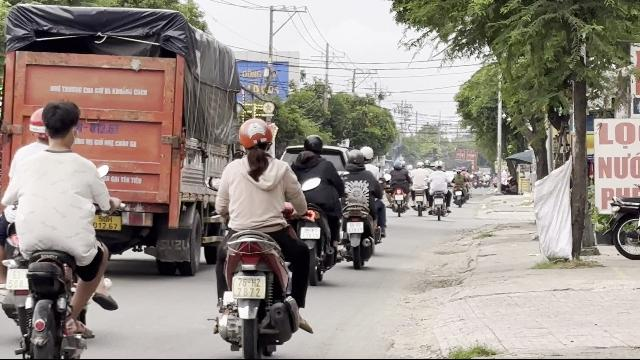helmet: (237, 118, 275, 159), (302, 134, 322, 154), (346, 149, 364, 169)
licenseplate: (233, 276, 265, 298), (300, 228, 320, 238), (347, 222, 363, 233)
motorcyclist: (1, 96, 121, 358), (202, 115, 318, 357), (290, 133, 344, 283), (338, 145, 387, 266)
nohelmet: (38, 98, 82, 148)
